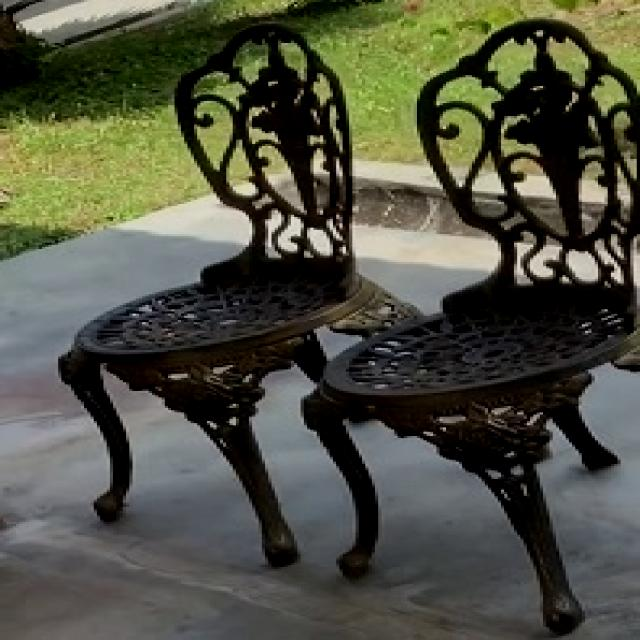Chair: (298, 18, 638, 637), (59, 23, 363, 570)
